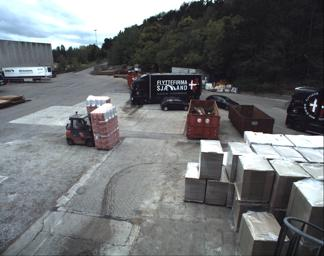rockwool_batts: (90, 103, 119, 149), (85, 94, 109, 119)
